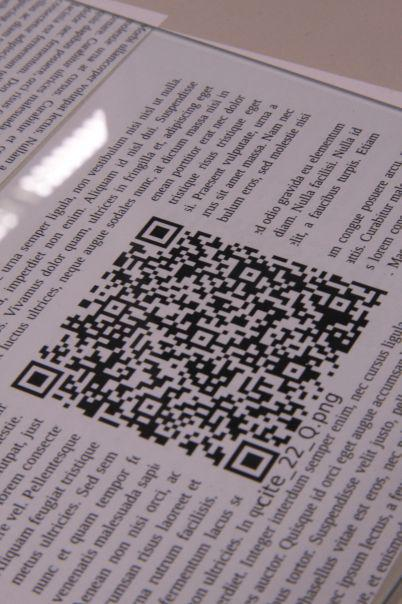Finder pattern: (224, 441, 281, 486), (12, 357, 67, 402), (132, 215, 187, 251)
